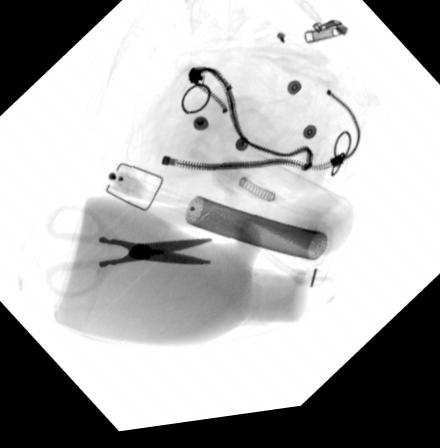Scissors: (33, 205, 213, 301)
